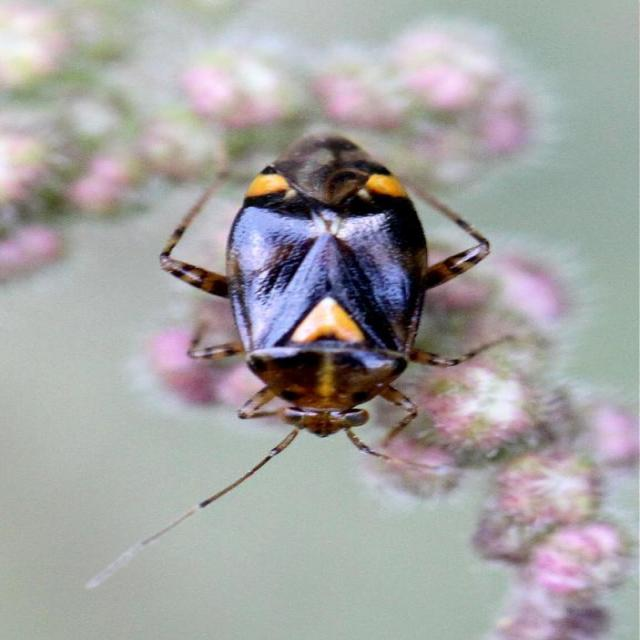Miridae-Adult-: (84, 122, 558, 480)
